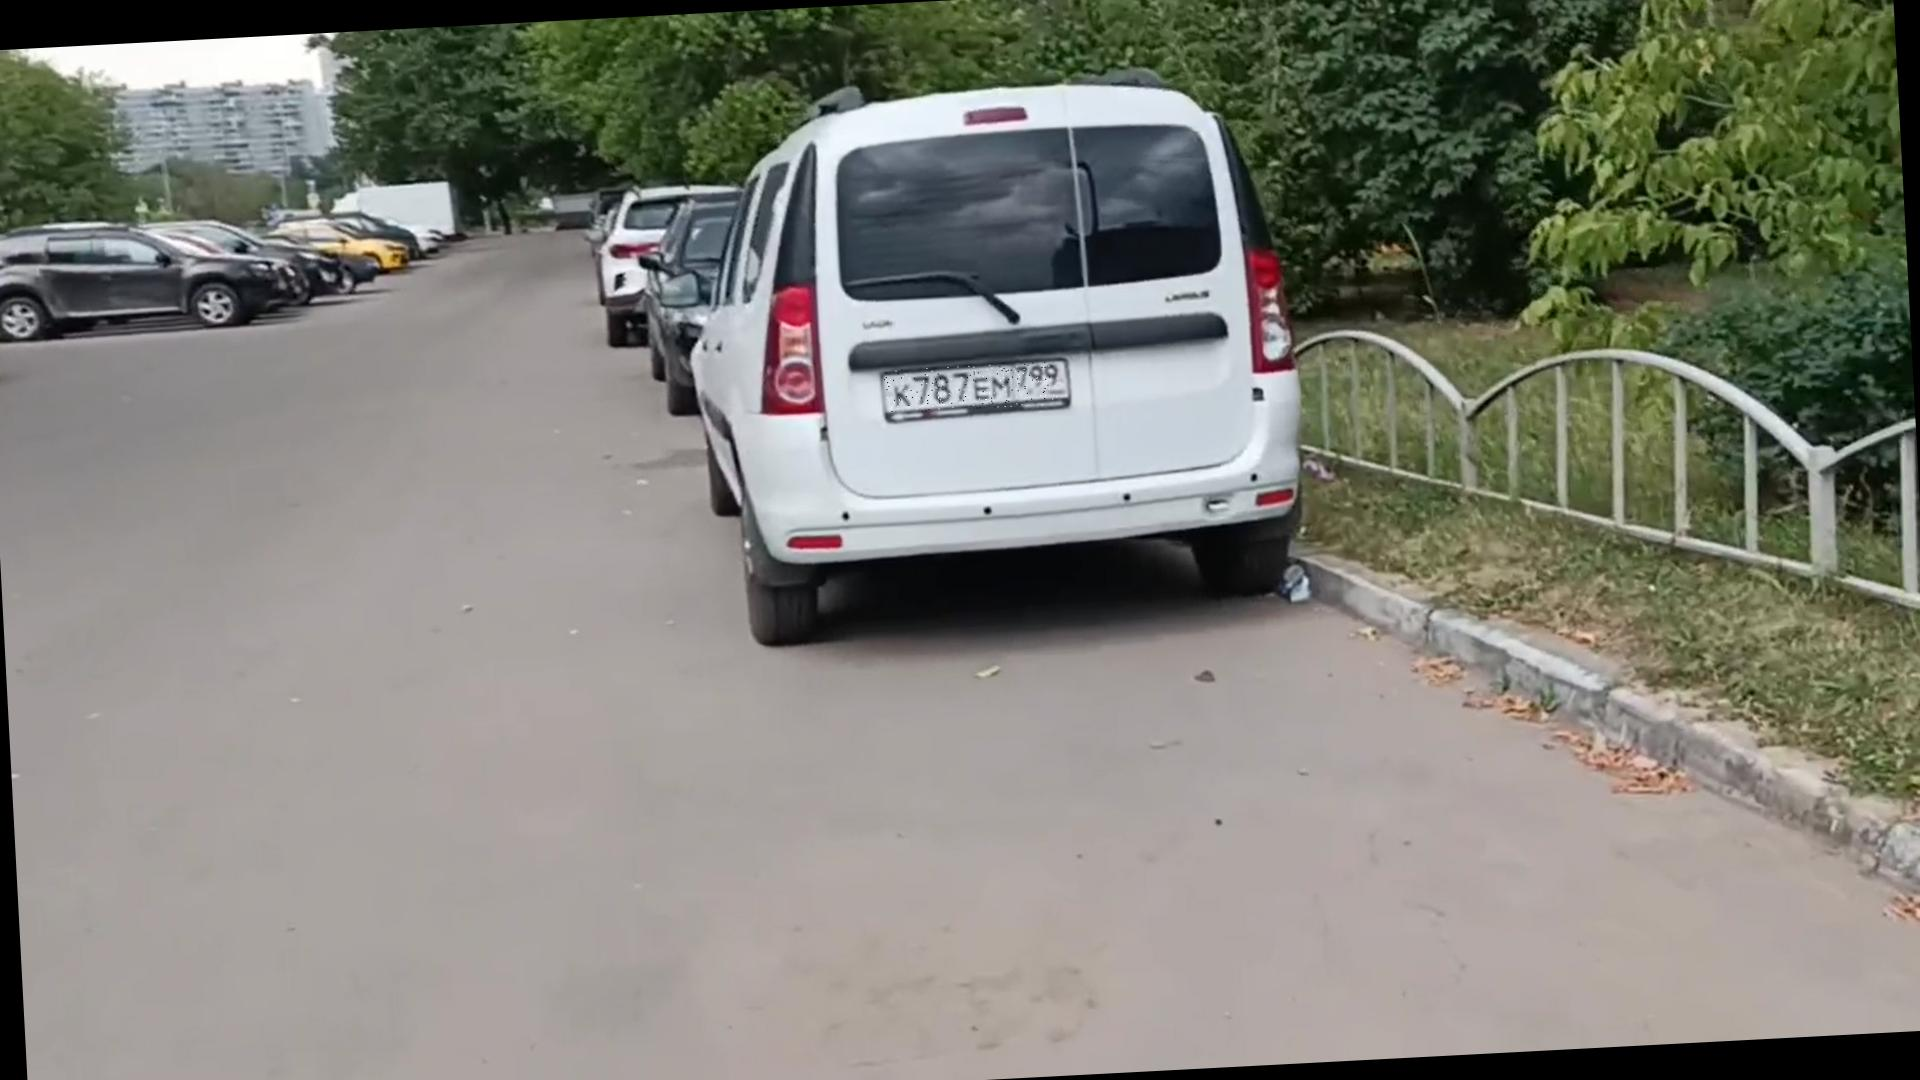plate: (883, 362, 1061, 414)
